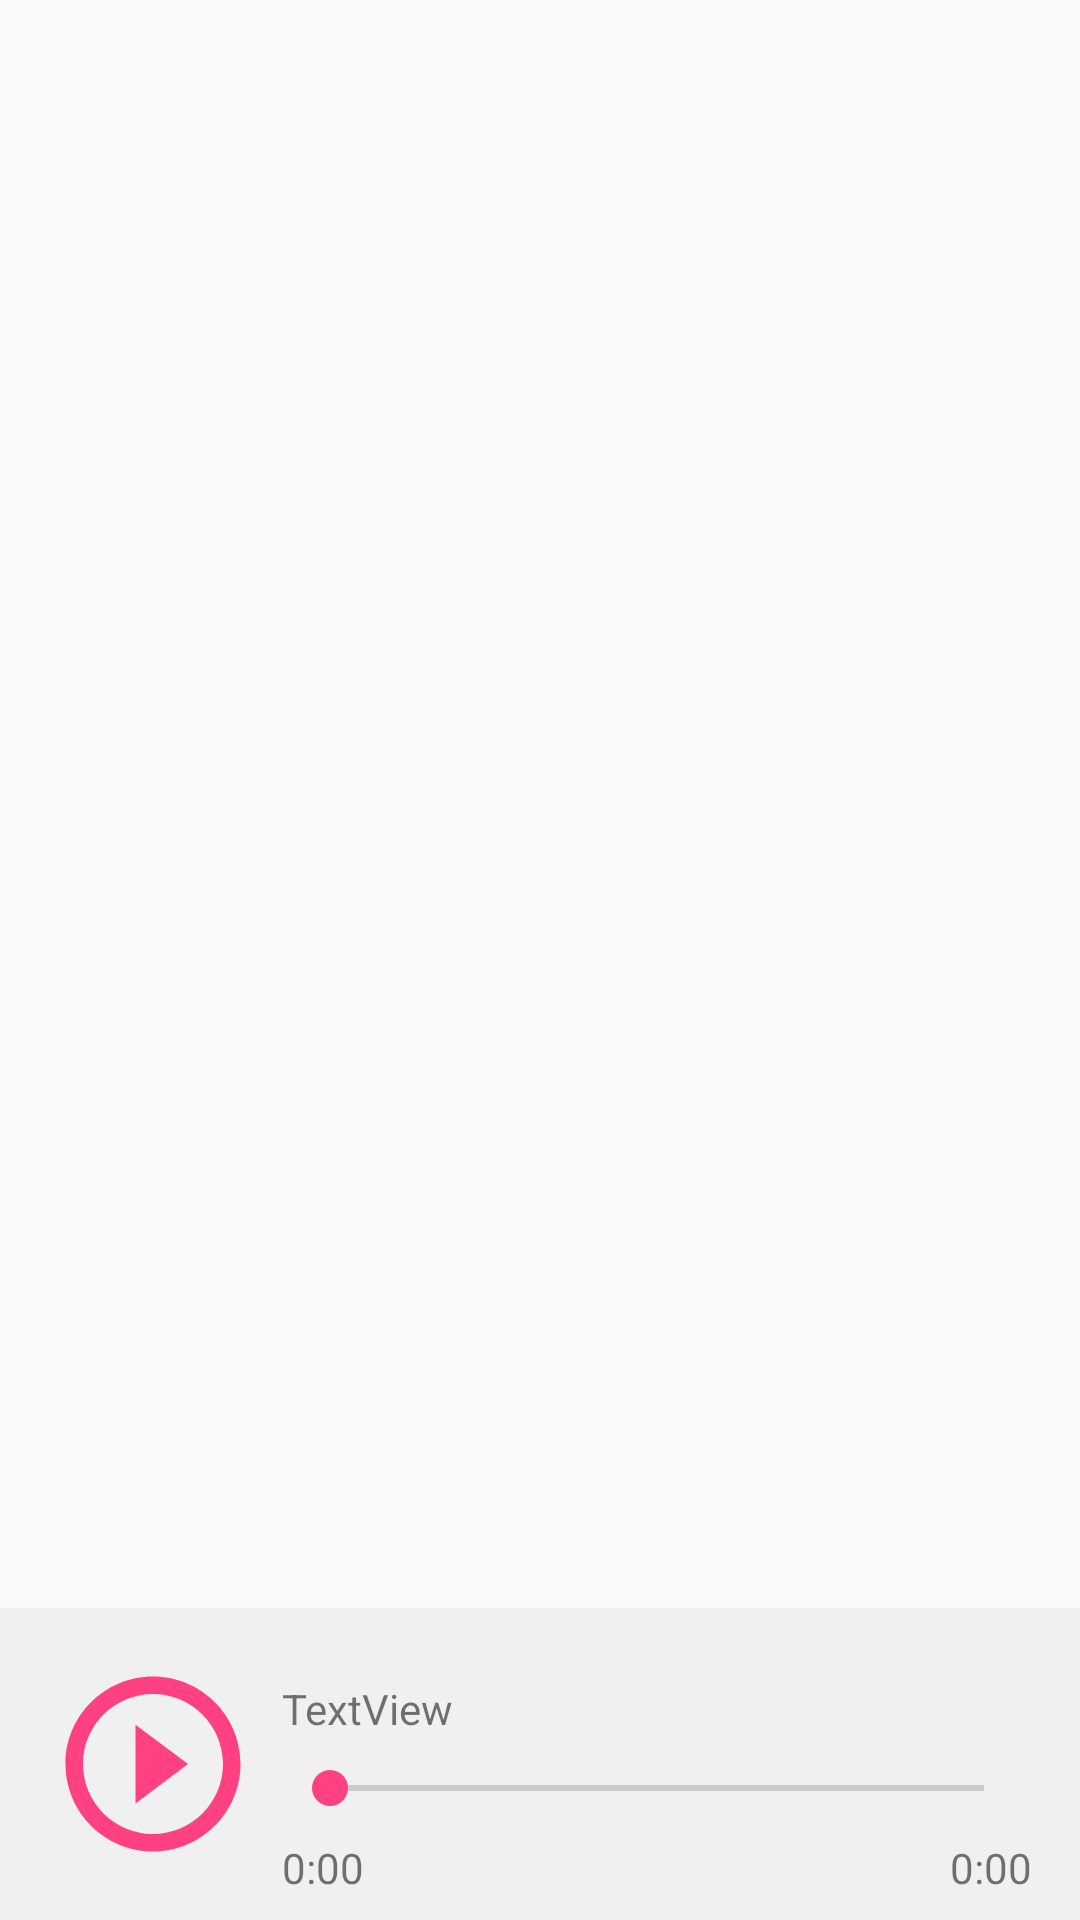

Icon click points for this 1080w x 1920h phone screenshot, format point (x, y):
play: point (153, 1764)
